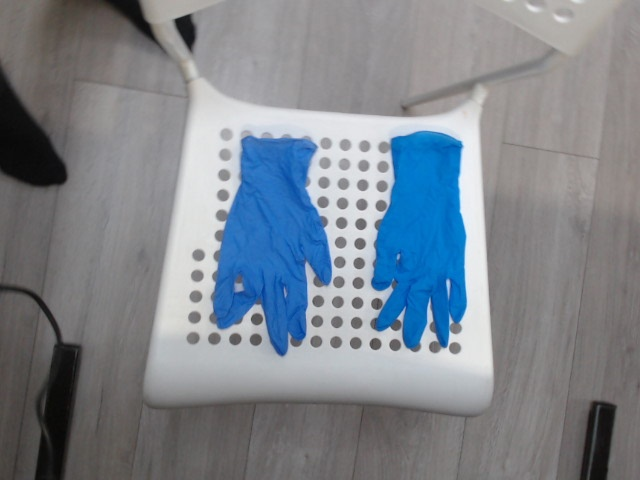medical_glove: (215, 140, 333, 352), (375, 134, 468, 344)
